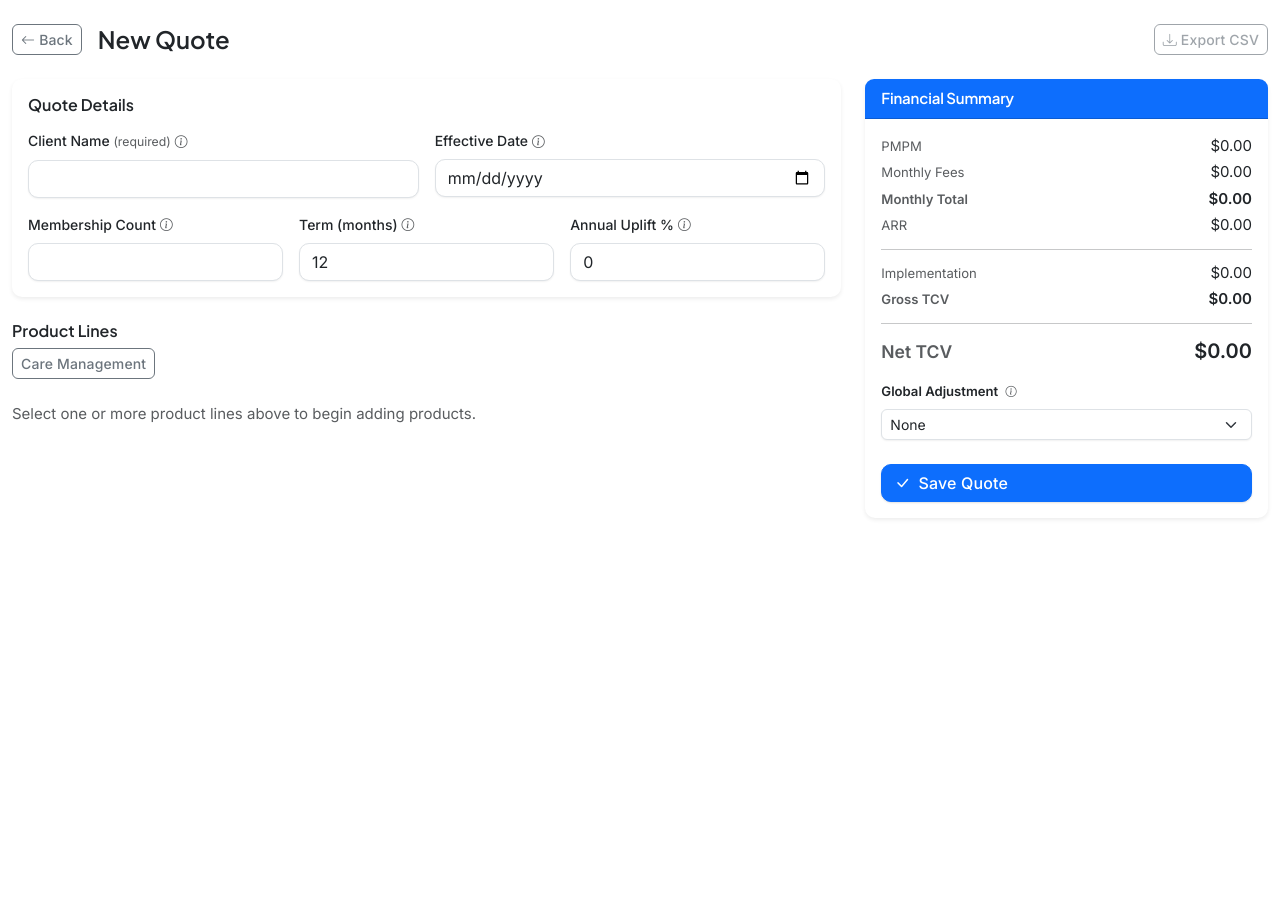
selecting a product auto-selects recommended products
Click the button with aria-label "add care management": x=84, y=363 [12, 348, 155, 379]
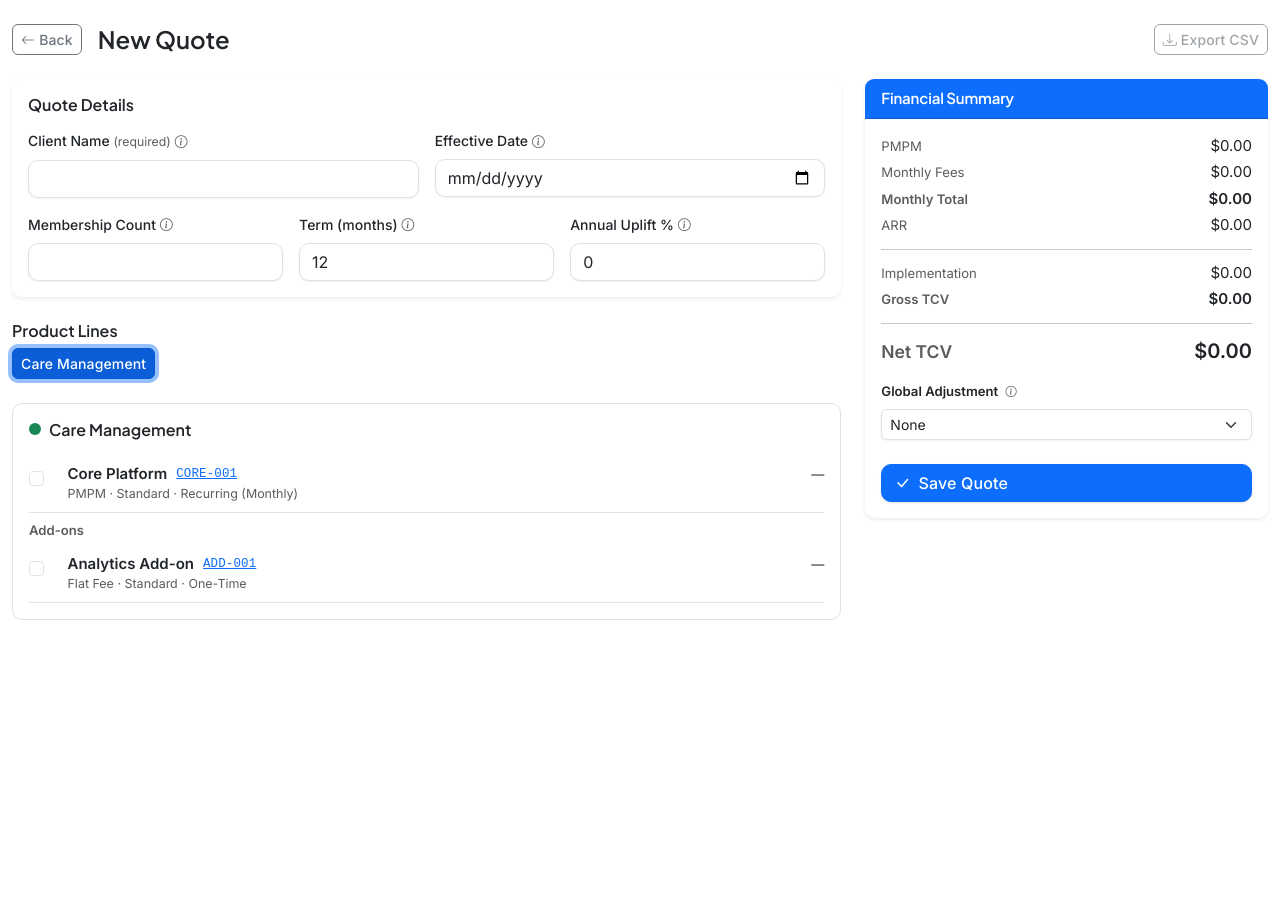
Note: Core recommends Add-on
Click the checkbox named "select core platform": x=36, y=478 [29, 471, 44, 486]
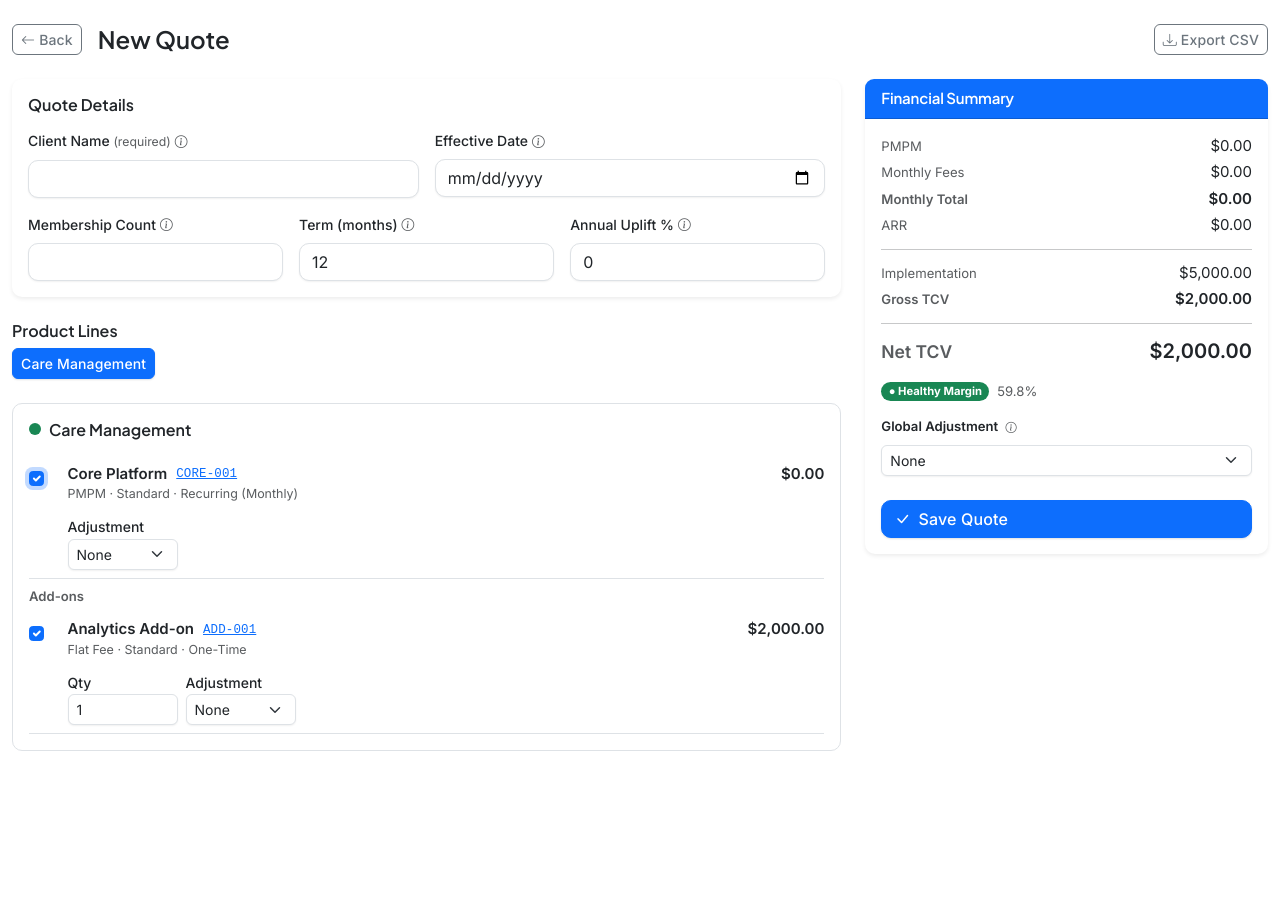
Check: the checkbox named "select analytics add-on" is checked, box [29, 626, 44, 641]
